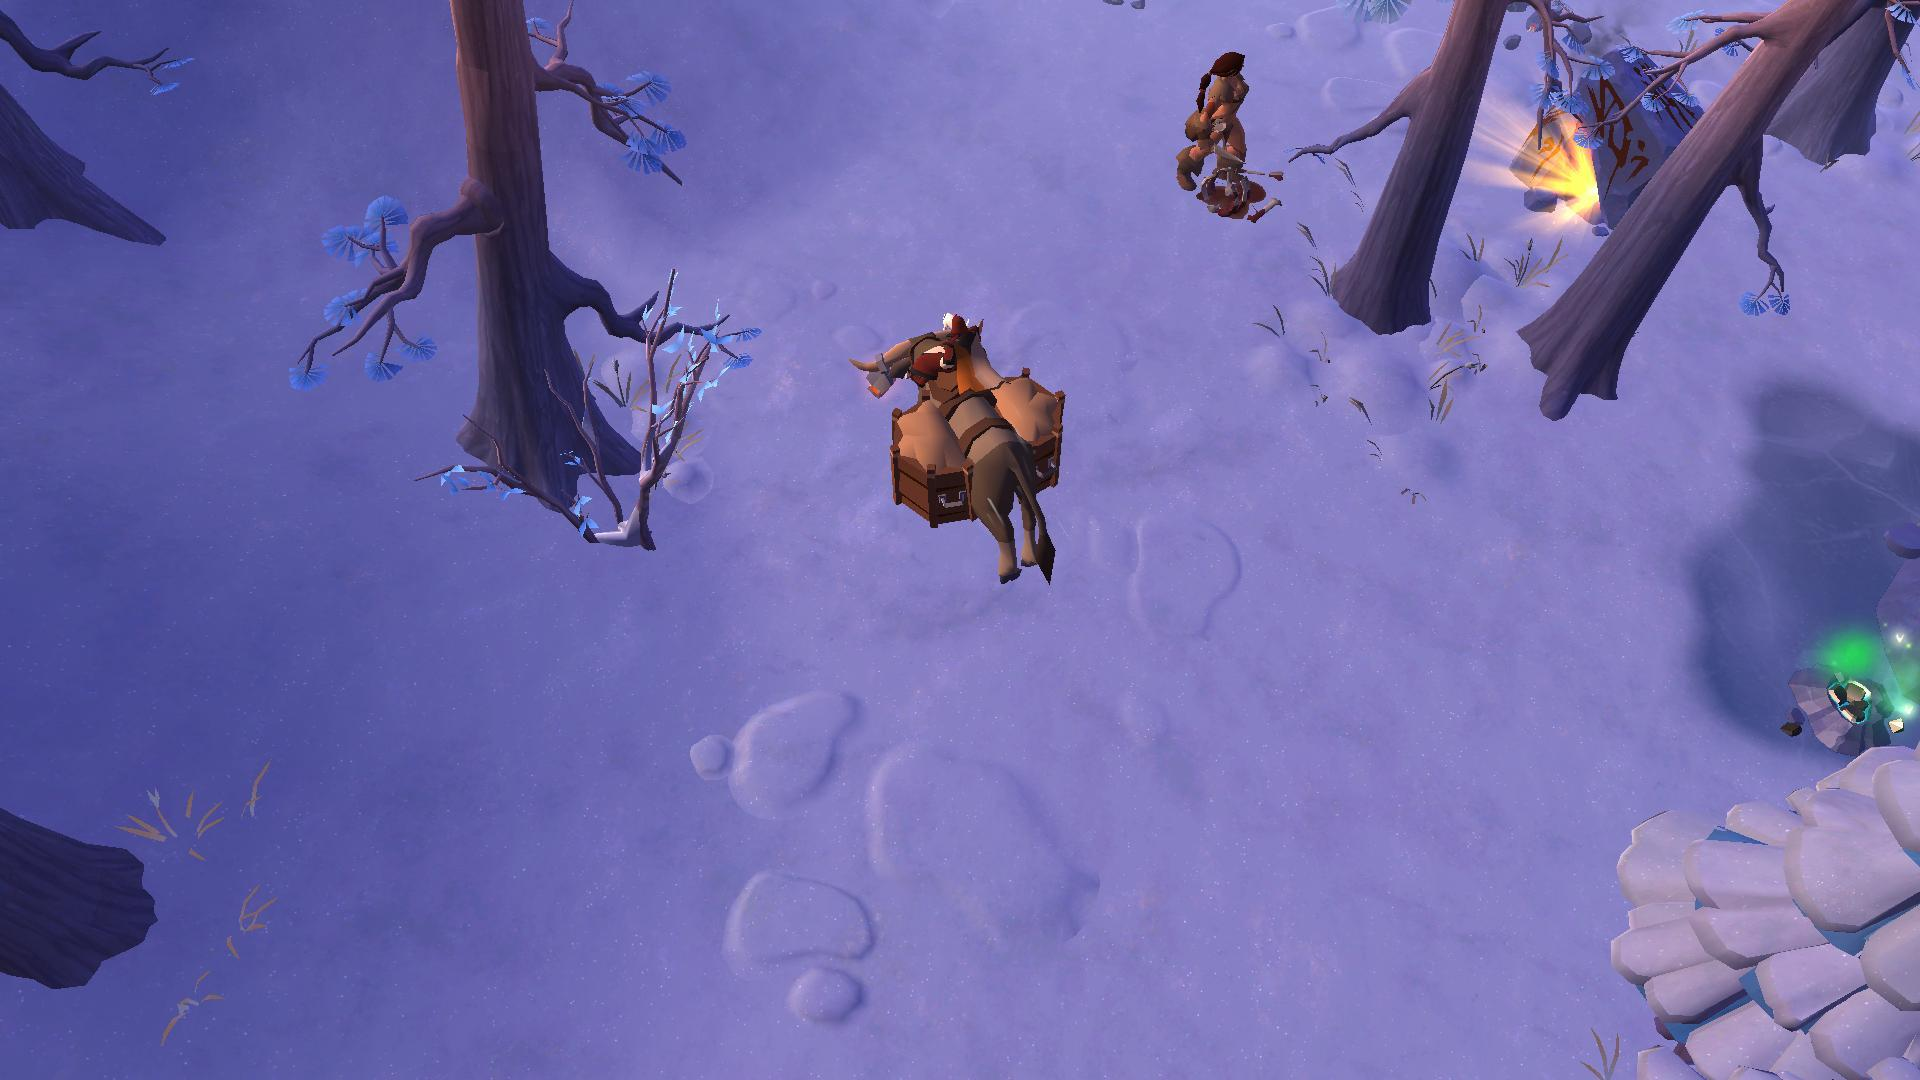enemy_factionKeeper: (1168, 46, 1254, 200)
